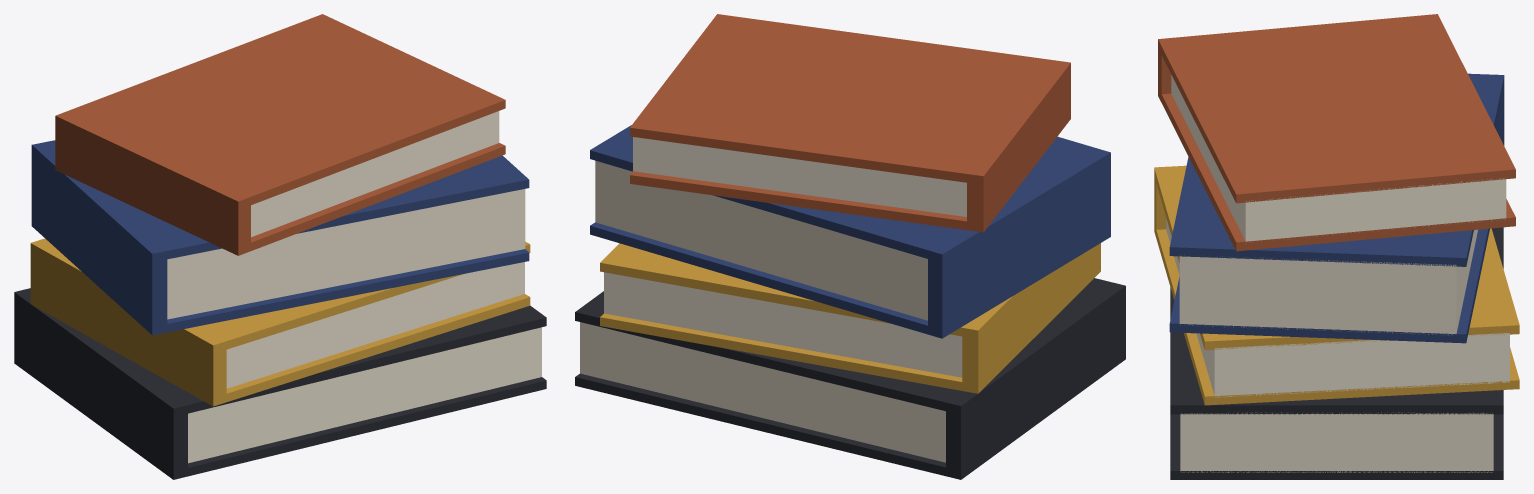
File: FN_Books_Stack.glb
The picture shows the model from 3 angles, left to right: view 1: azimuth 30°, elevation 25°; view 2: azimuth 150°, elevation 25°; view 3: azimuth 270°, elevation 25°; orthographic projection. The views are drawn at different scales.
Parts seen in each view (by area): view 1: FN_Books_Stack; view 2: FN_Books_Stack; view 3: FN_Books_Stack.
Part boxes in pixels (box(x1,y1,x2,y2)): FN_Books_Stack: box(14, 14, 546, 479); FN_Books_Stack: box(575, 14, 1125, 479); FN_Books_Stack: box(1154, 14, 1519, 479).
Bounding box in the file's own units: 0.2344 × 0.158 × 0.1866.
Materials: 1 (1 with a texture image).
